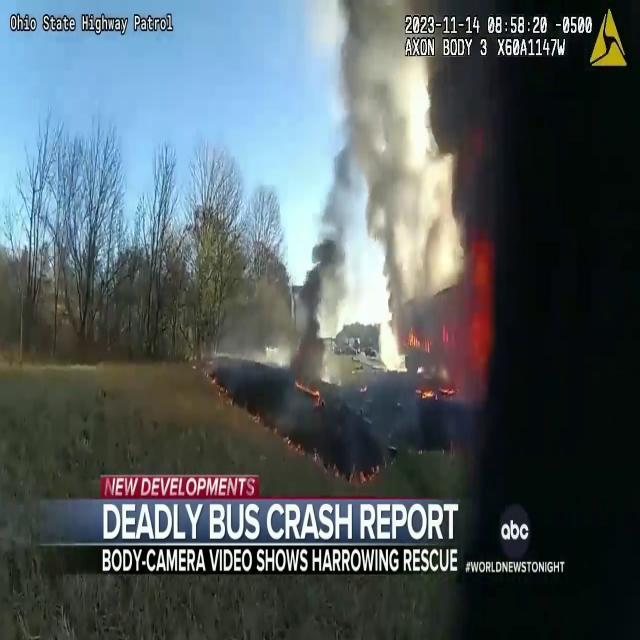Smoke: (286, 0, 487, 373)
